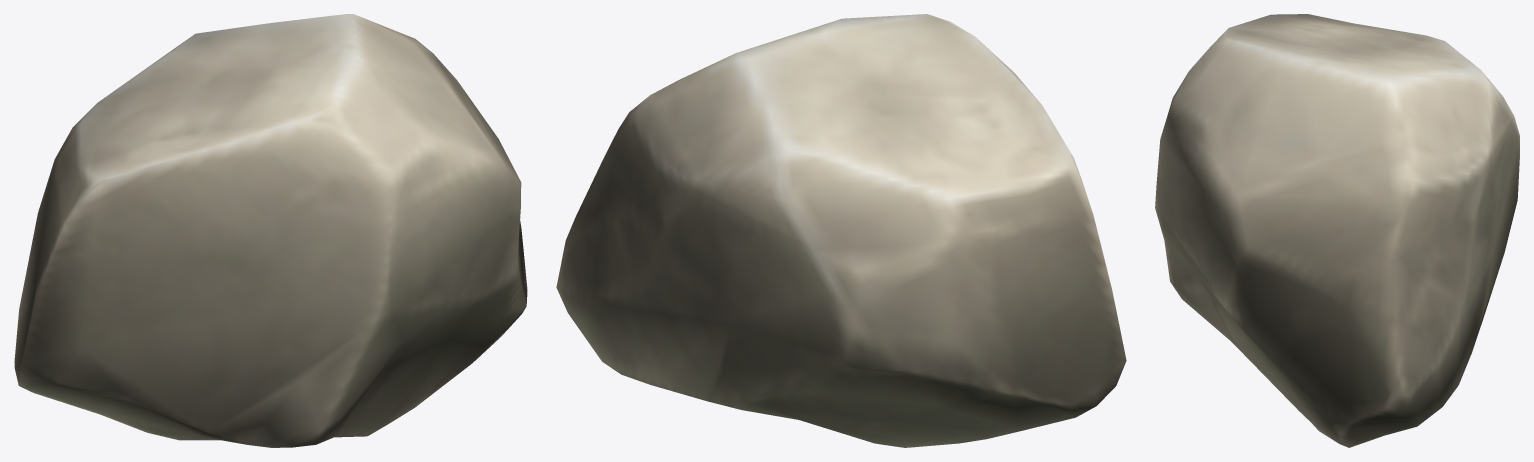
Rendered from rock_02.glb.
3 views of the same model, side by side, from view 1: azimuth 30°, elevation 25°; view 2: azimuth 150°, elevation 25°; view 3: azimuth 270°, elevation 25° (orthographic). The views are drawn at different scales.
Parts seen in each view (by area): view 1: rock; view 2: rock; view 3: rock.
Boxes of the visible parts, x1,y1,x2,y2 form: rock: (14, 14, 527, 447); rock: (556, 14, 1126, 447); rock: (1155, 14, 1519, 447).
Size of the model in its own units: 1.4 by 0.9717 by 0.925.
Materials: 1 (1 with a texture image).
